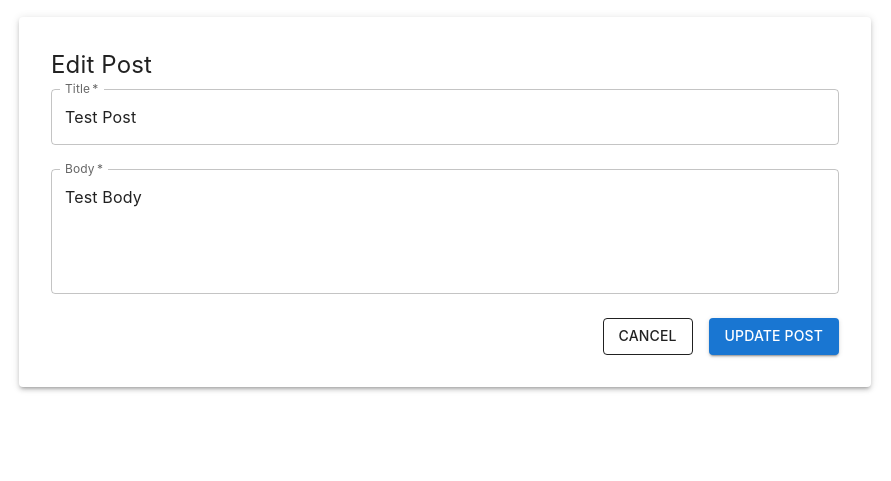
EditPost › handles update error
Expected: the field with test id "title" is shown, left=51, top=89, right=839, bottom=145
Submit form
Click the button "Update Post": x=774, y=337 left=709, top=318, right=839, bottom=355
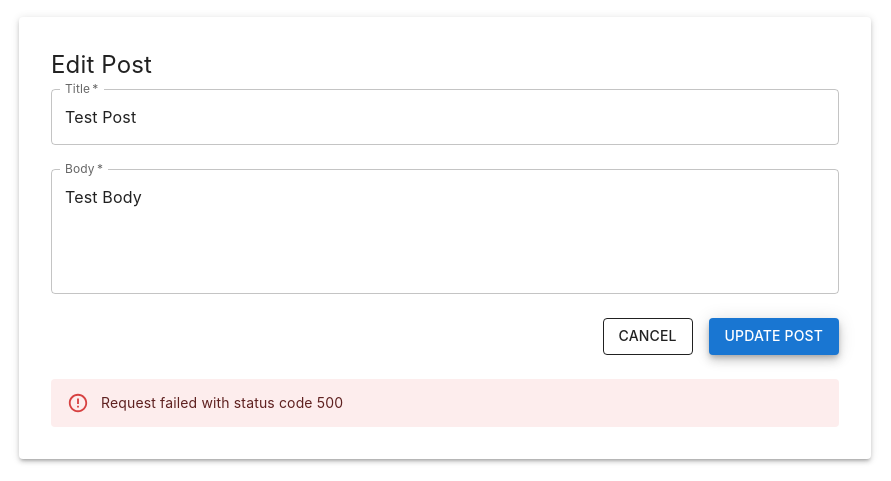
Expected: the message "Request failed with status code 500" is shown, left=51, top=379, right=839, bottom=427
